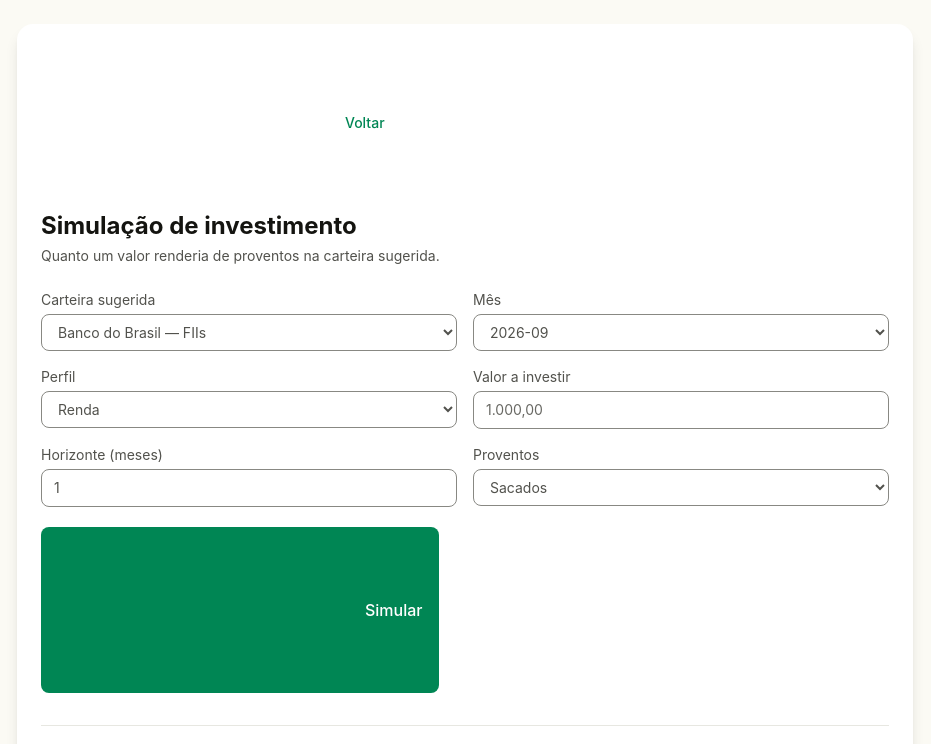
Test: SimulationComponent › deve mostrar o resultado devolvido pela API
The image size is (931, 744).
Type "1000" into the field labelled "Valor a investir".
click(681, 410); type("1000")  # box [473,391,889,429]
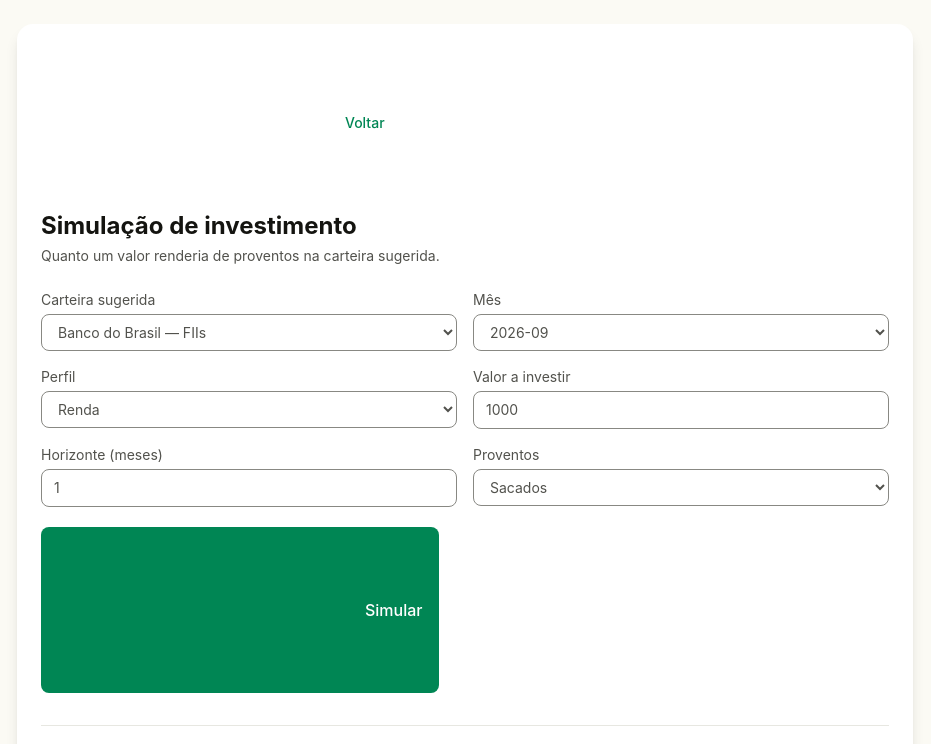
Click the button with test id "simulate-button".
click(240, 610)  # box [41,527,438,693]
(page scrolled)
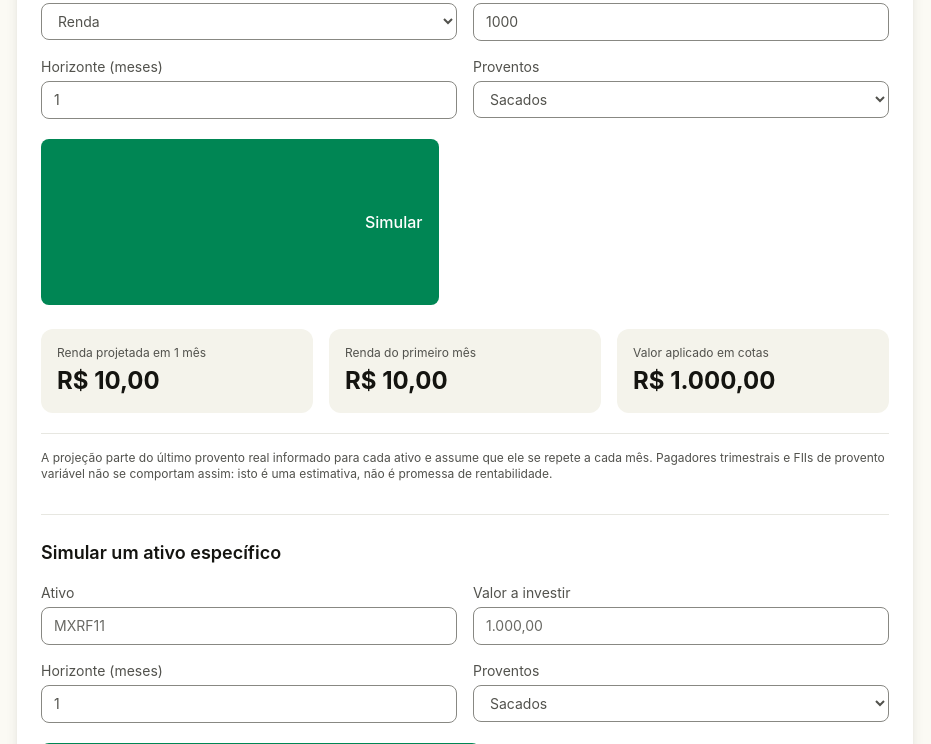
Expected: the element with test id "simulation-result" is shown, [41,329,889,482]
